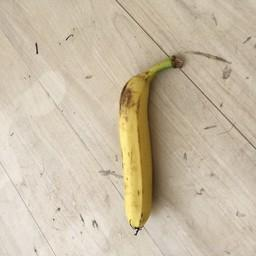Banana Ripe: (106, 54, 189, 245)
